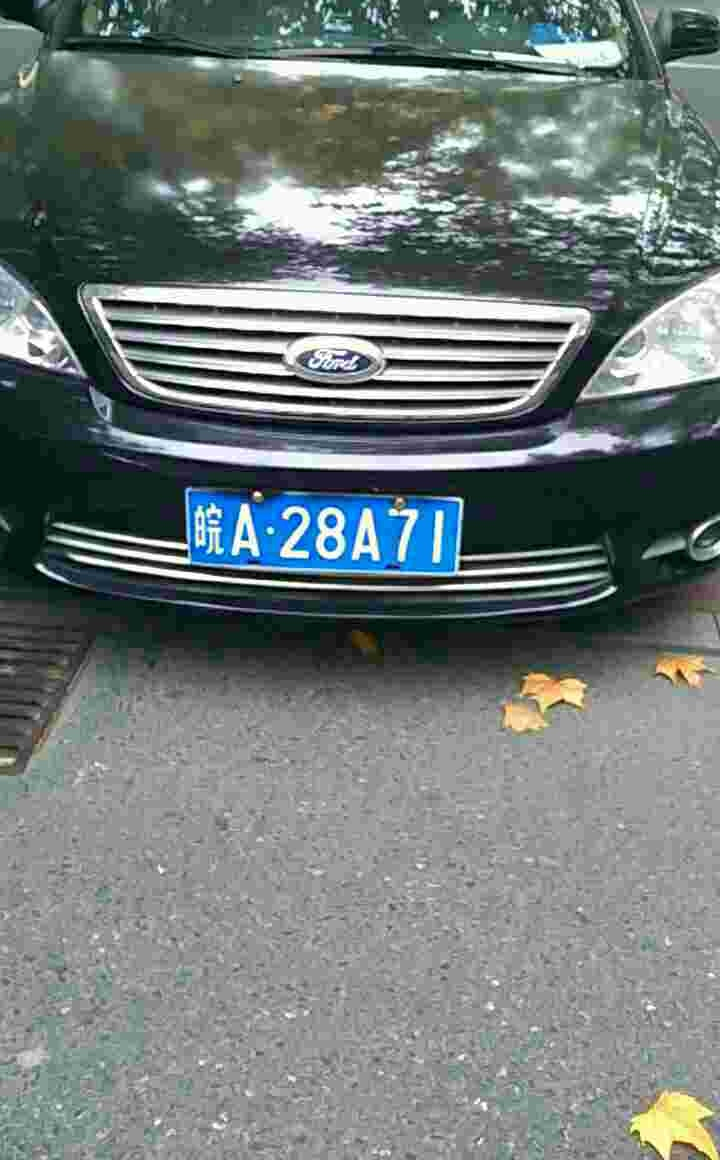license_plate: (191, 491, 466, 577)
